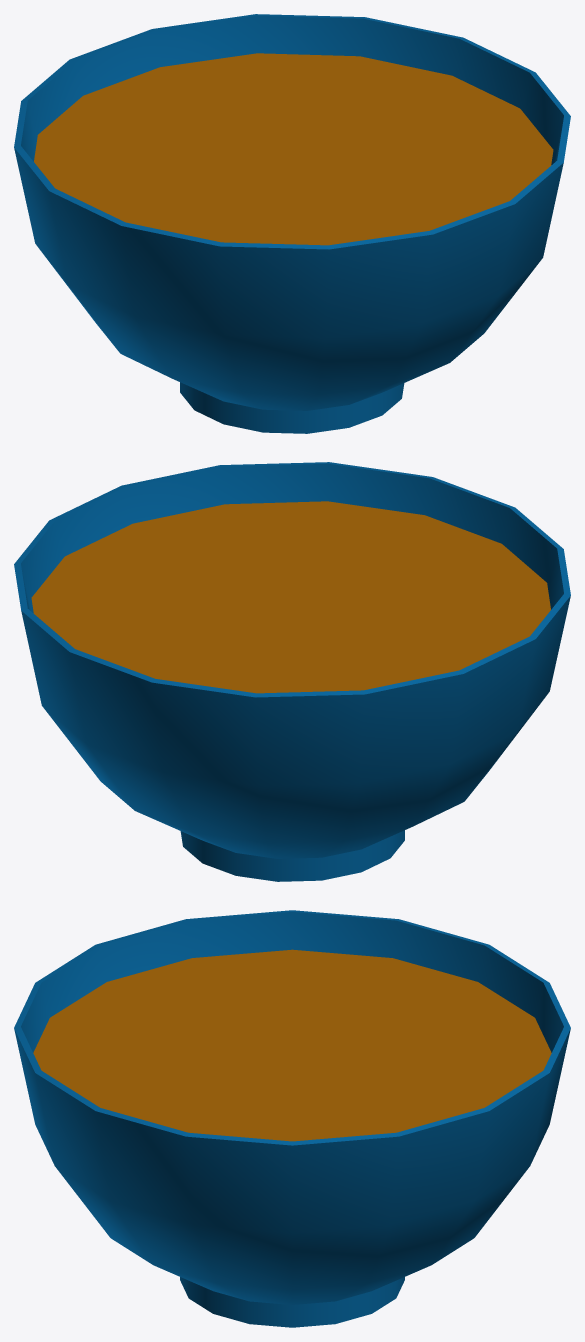
File: Hobaksikyekkaebi.fbx
3 renders of one model, top to bottom at view 1: azimuth 30°, elevation 25°; view 2: azimuth 150°, elevation 25°; view 3: azimuth 270°, elevation 25°, orthographic.
Visible parts, largest first — view 1: Hobaksikyekkaebi; view 2: Hobaksikyekkaebi; view 3: Hobaksikyekkaebi.
Boxes of the visible parts, x1,y1,x2,y2 form: Hobaksikyekkaebi: (14,14,570,433); Hobaksikyekkaebi: (14,462,570,881); Hobaksikyekkaebi: (14,910,570,1327).
Bounding box in the file's own units: 58.58 × 29.43 × 58.58.
